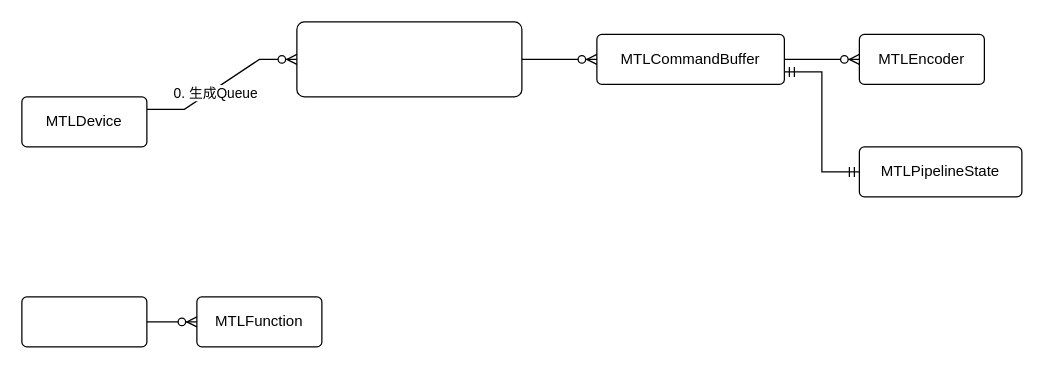
The diagram is 1044 pixels wide and 369 high, and some of its shapes have lost their labels. Each missing label, with the centre of its shape:
MTLCommandQueue 对一系列cmdBuffer 的调度: the point at 409,59
MTLLibrary: the point at 84,321
